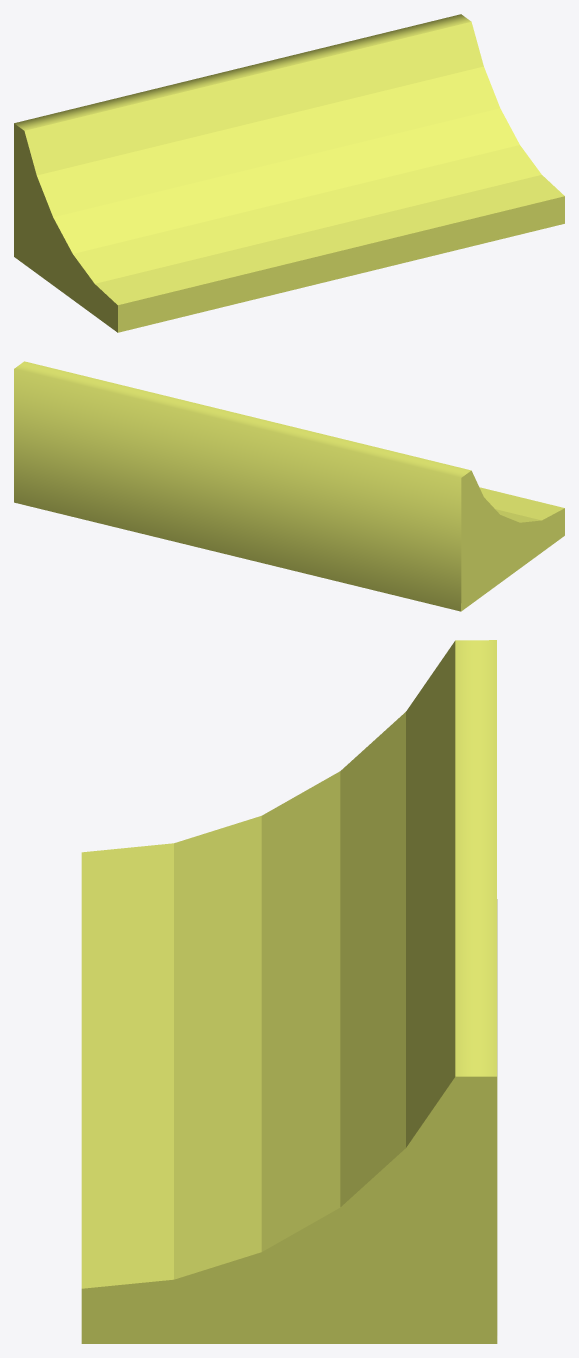
The model's file is Lateral Obstacle 1.fbx.
The picture shows the model from 3 angles, top to bottom: view 1: azimuth 30°, elevation 25°; view 2: azimuth 150°, elevation 25°; view 3: azimuth 270°, elevation 25°; orthographic projection. The views are drawn at different scales.
Visible parts, largest first — view 1: Cube; view 2: Cube; view 3: Cube.
Boxes of the visible parts, x1=… form: Cube: x1=14, y1=14, x2=564, y2=332; Cube: x1=14, y1=361, x2=564, y2=611; Cube: x1=81, y1=640, x2=497, y2=1343.
Size of the model in its own units: 19.61 by 5.6 by 7.89.
